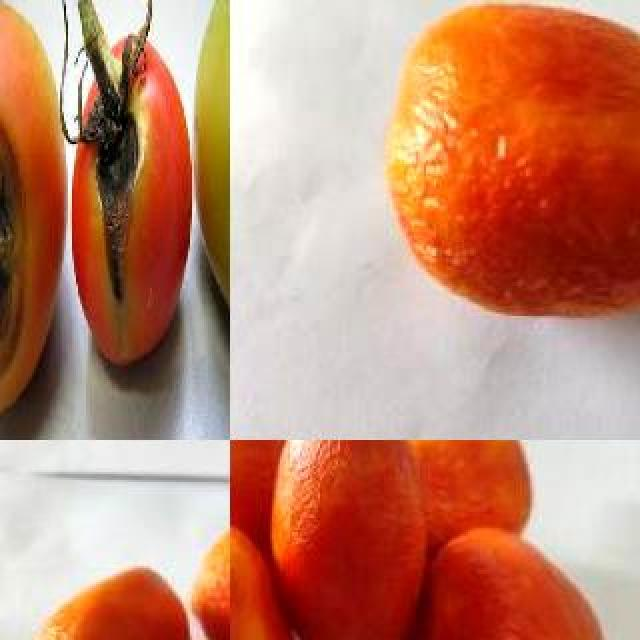Rotten_Tomato: (362, 0, 640, 328), (70, 30, 192, 376), (262, 440, 428, 640), (0, 0, 72, 440), (408, 516, 616, 640), (376, 440, 538, 566), (26, 552, 196, 640), (230, 518, 328, 640), (230, 440, 322, 564), (182, 498, 230, 640)
